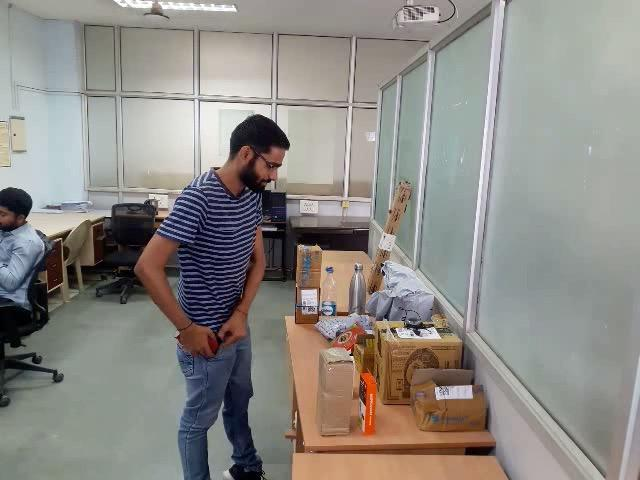shoplifting: (137, 306, 282, 394)
